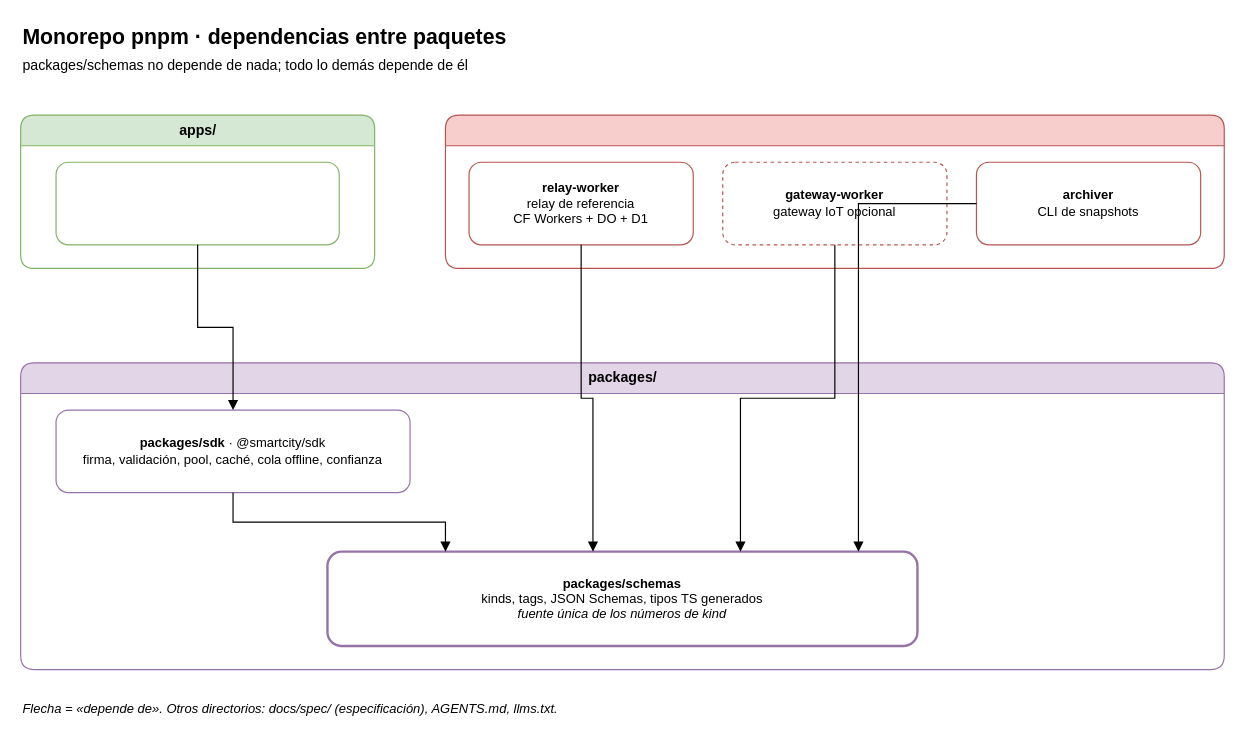
Image size: 1245x748. Some labels were removed from this diagram. Here are the shapes that lost their labels. From the top down, the box of each, then its label:
(55, 161, 339, 245): apps/web SPA React + Vite MapLibre + PMTiles
(444, 114, 1224, 268): services/
